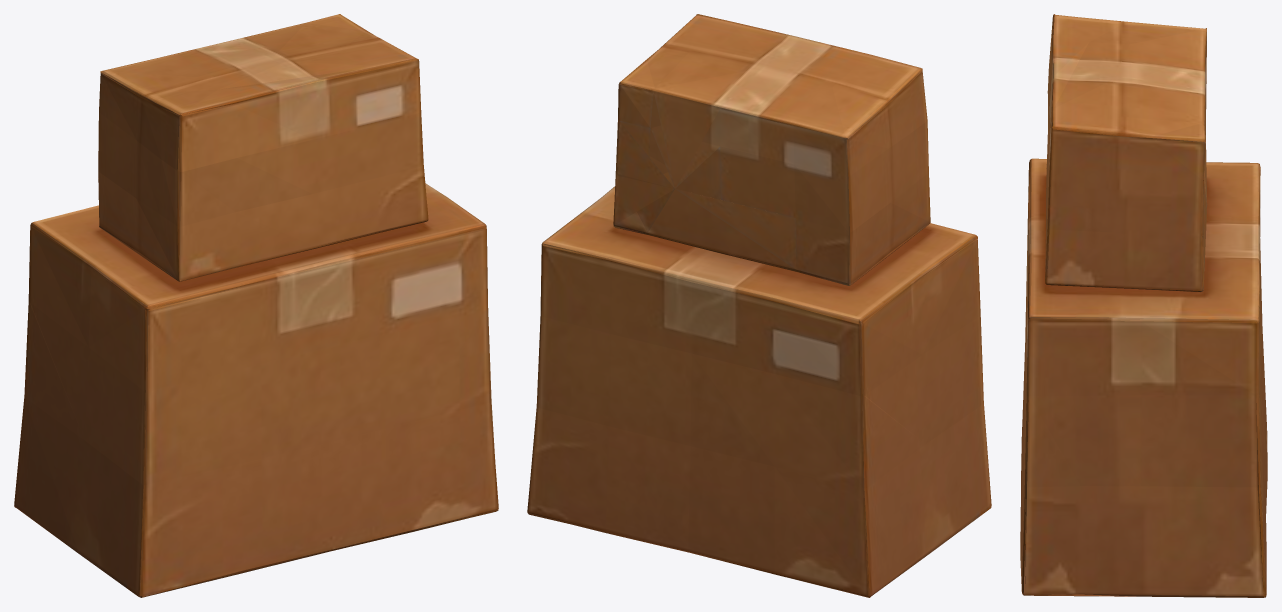
Rendered from stock-boxes.glb.
3 views of the same model, side by side, from view 1: azimuth 30°, elevation 25°; view 2: azimuth 150°, elevation 25°; view 3: azimuth 270°, elevation 25° (orthographic). The views are drawn at different scales.
Visible parts, largest first — view 1: meshy-stock-boxes; view 2: meshy-stock-boxes; view 3: meshy-stock-boxes.
Part boxes in pixels (x1,y1,x2,y2): meshy-stock-boxes: (14, 14, 498, 597); meshy-stock-boxes: (527, 14, 991, 597); meshy-stock-boxes: (1020, 14, 1267, 597).
Size of the model in its own units: 0.8192 by 1 by 0.506.
1 material, 1 textured.
